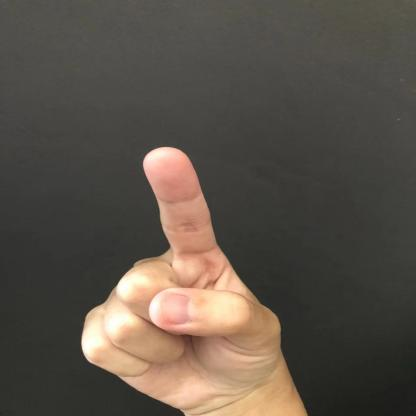finger_point: (89, 127, 285, 260)
